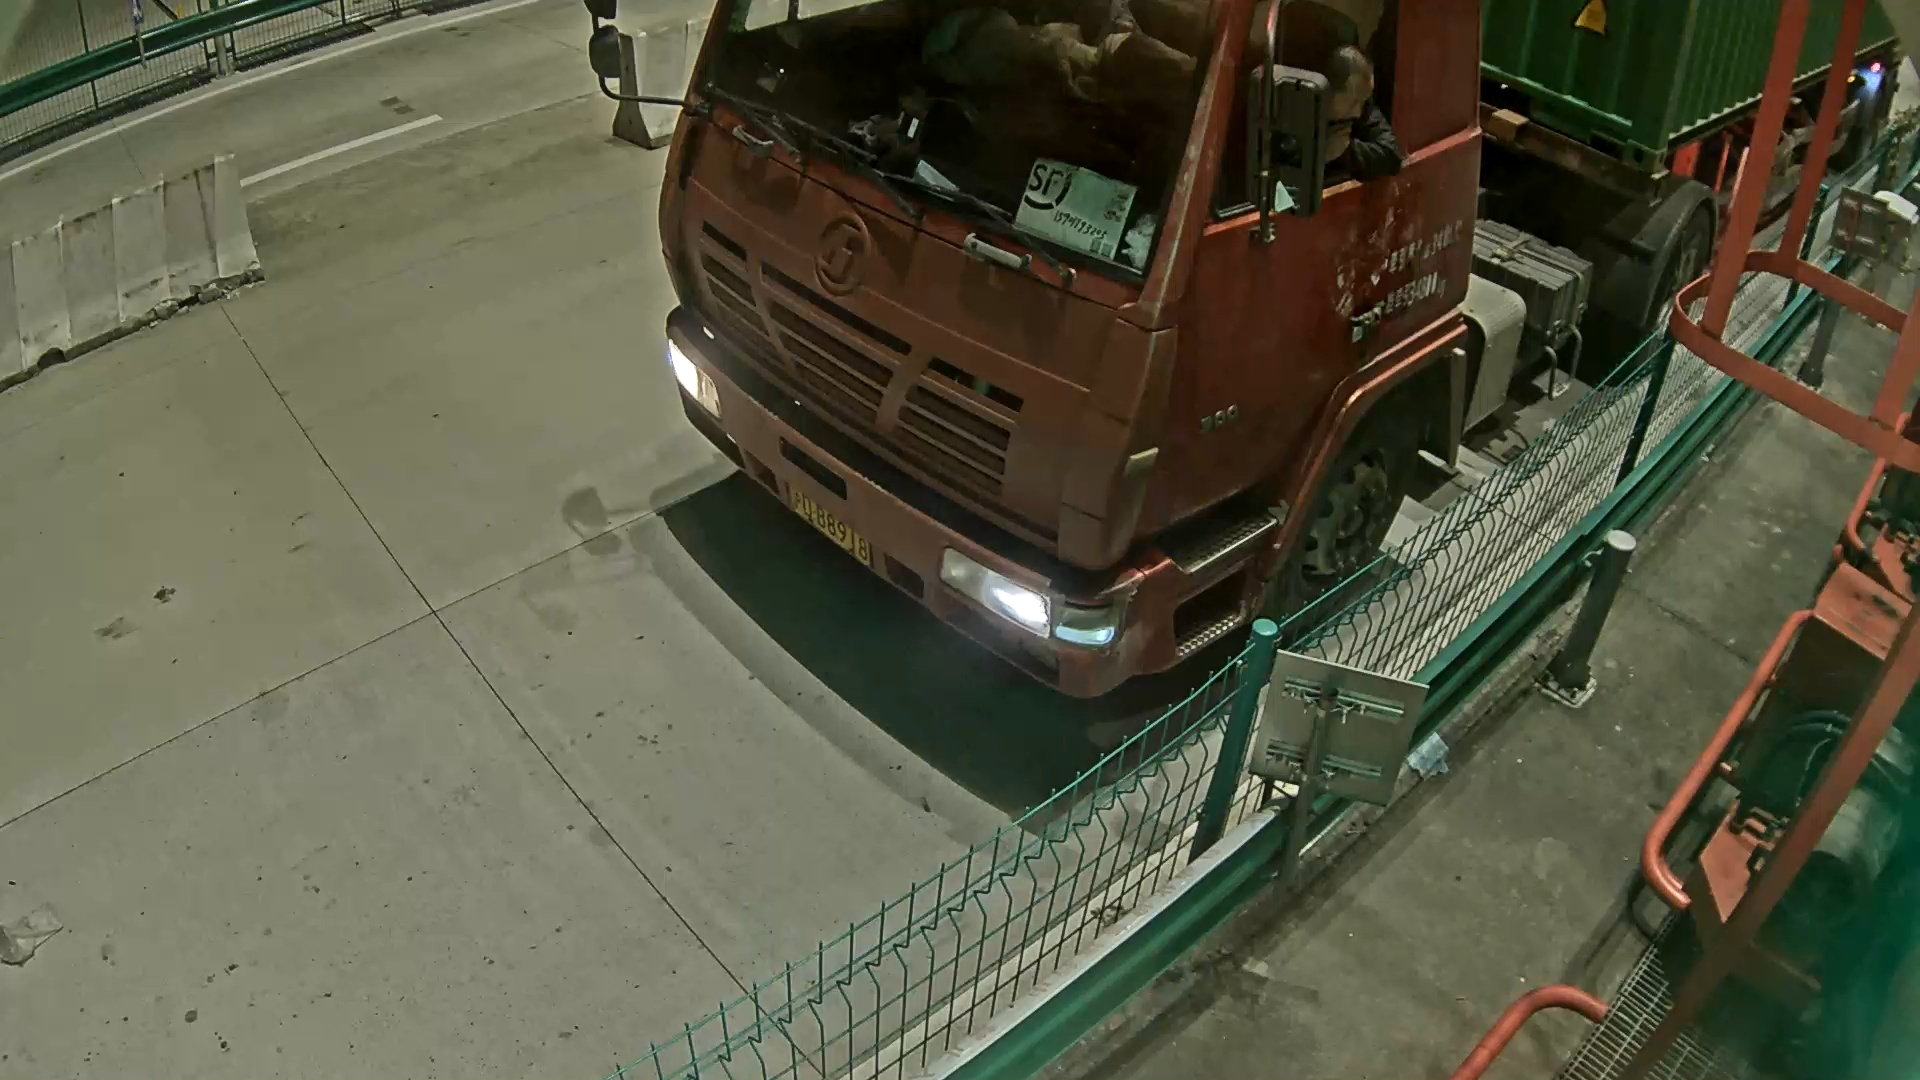head: (655, 1, 1484, 699)
plate: (784, 479, 869, 566)
